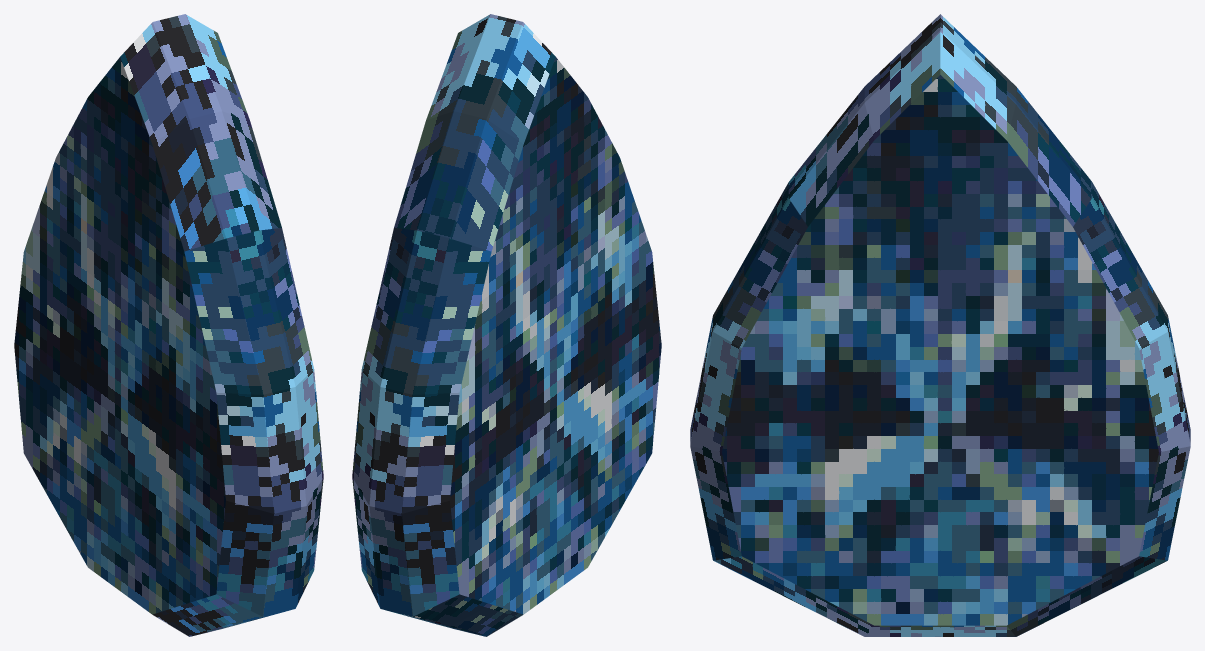
The model's file is GemstoneItem 1.fbx.
3 renders of one model, left to right at view 1: azimuth 30°, elevation 25°; view 2: azimuth 150°, elevation 25°; view 3: azimuth 270°, elevation 25°, orthographic. The views are drawn at different scales.
Parts seen in each view (by area): view 1: mesh; view 2: mesh; view 3: mesh.
Part boxes in pixels (x1=…): mesh: x1=14, y1=14, x2=323, y2=636; mesh: x1=352, y1=14, x2=661, y2=636; mesh: x1=690, y1=14, x2=1190, y2=636.
Bounding box in the file's own units: 12.5 × 71.88 × 53.75.
1 material, 1 textured.
